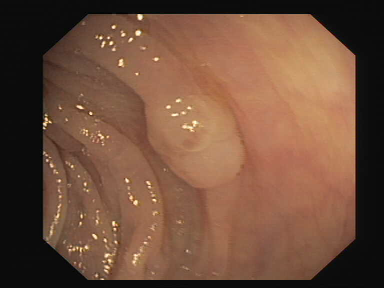polyp: (121, 81, 270, 200)
